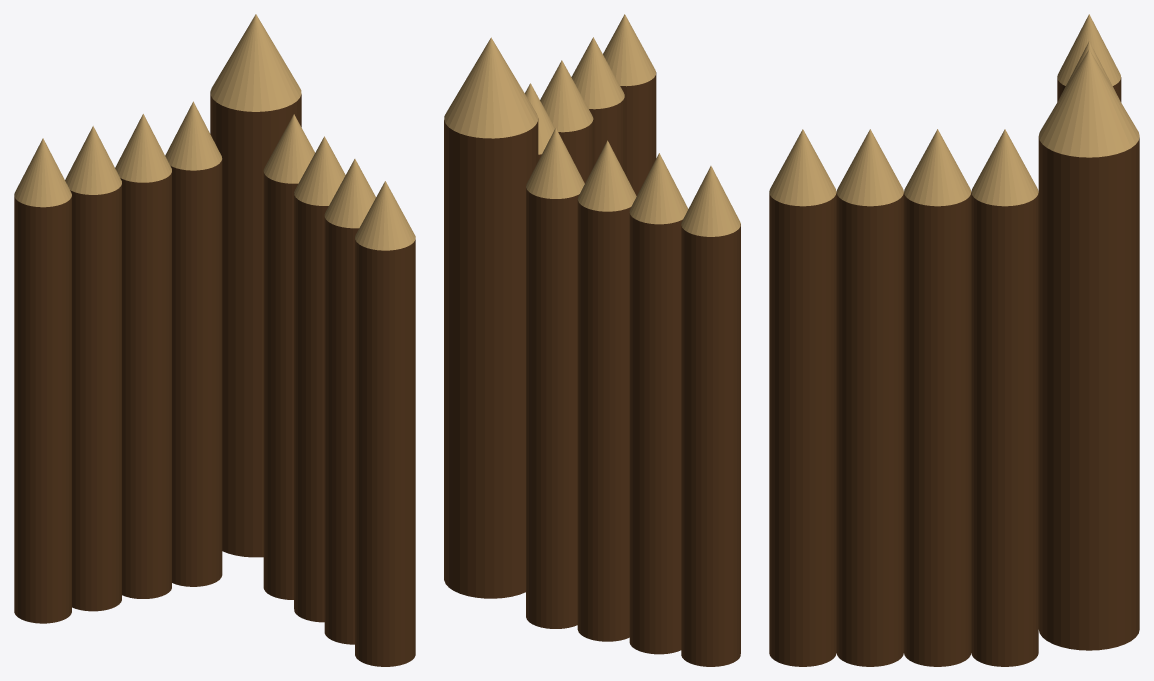
Rendered from lvl1_corner2.glb.
3 renders of one model, left to right at view 1: azimuth 30°, elevation 25°; view 2: azimuth 150°, elevation 25°; view 3: azimuth 270°, elevation 25°, orthographic. The views are drawn at different scales.
Parts seen in each view (by area): view 1: Cylinder.019; view 2: Cylinder.019; view 3: Cylinder.019.
Boxes of the visible parts, left/top/right/bottom form: Cylinder.019: left=14, top=14, right=415, bottom=666; Cylinder.019: left=444, top=14, right=740, bottom=666; Cylinder.019: left=769, top=14, right=1139, bottom=666.
Bounding box in the file's own units: 0.5539 × 1.04 × 0.5789.
